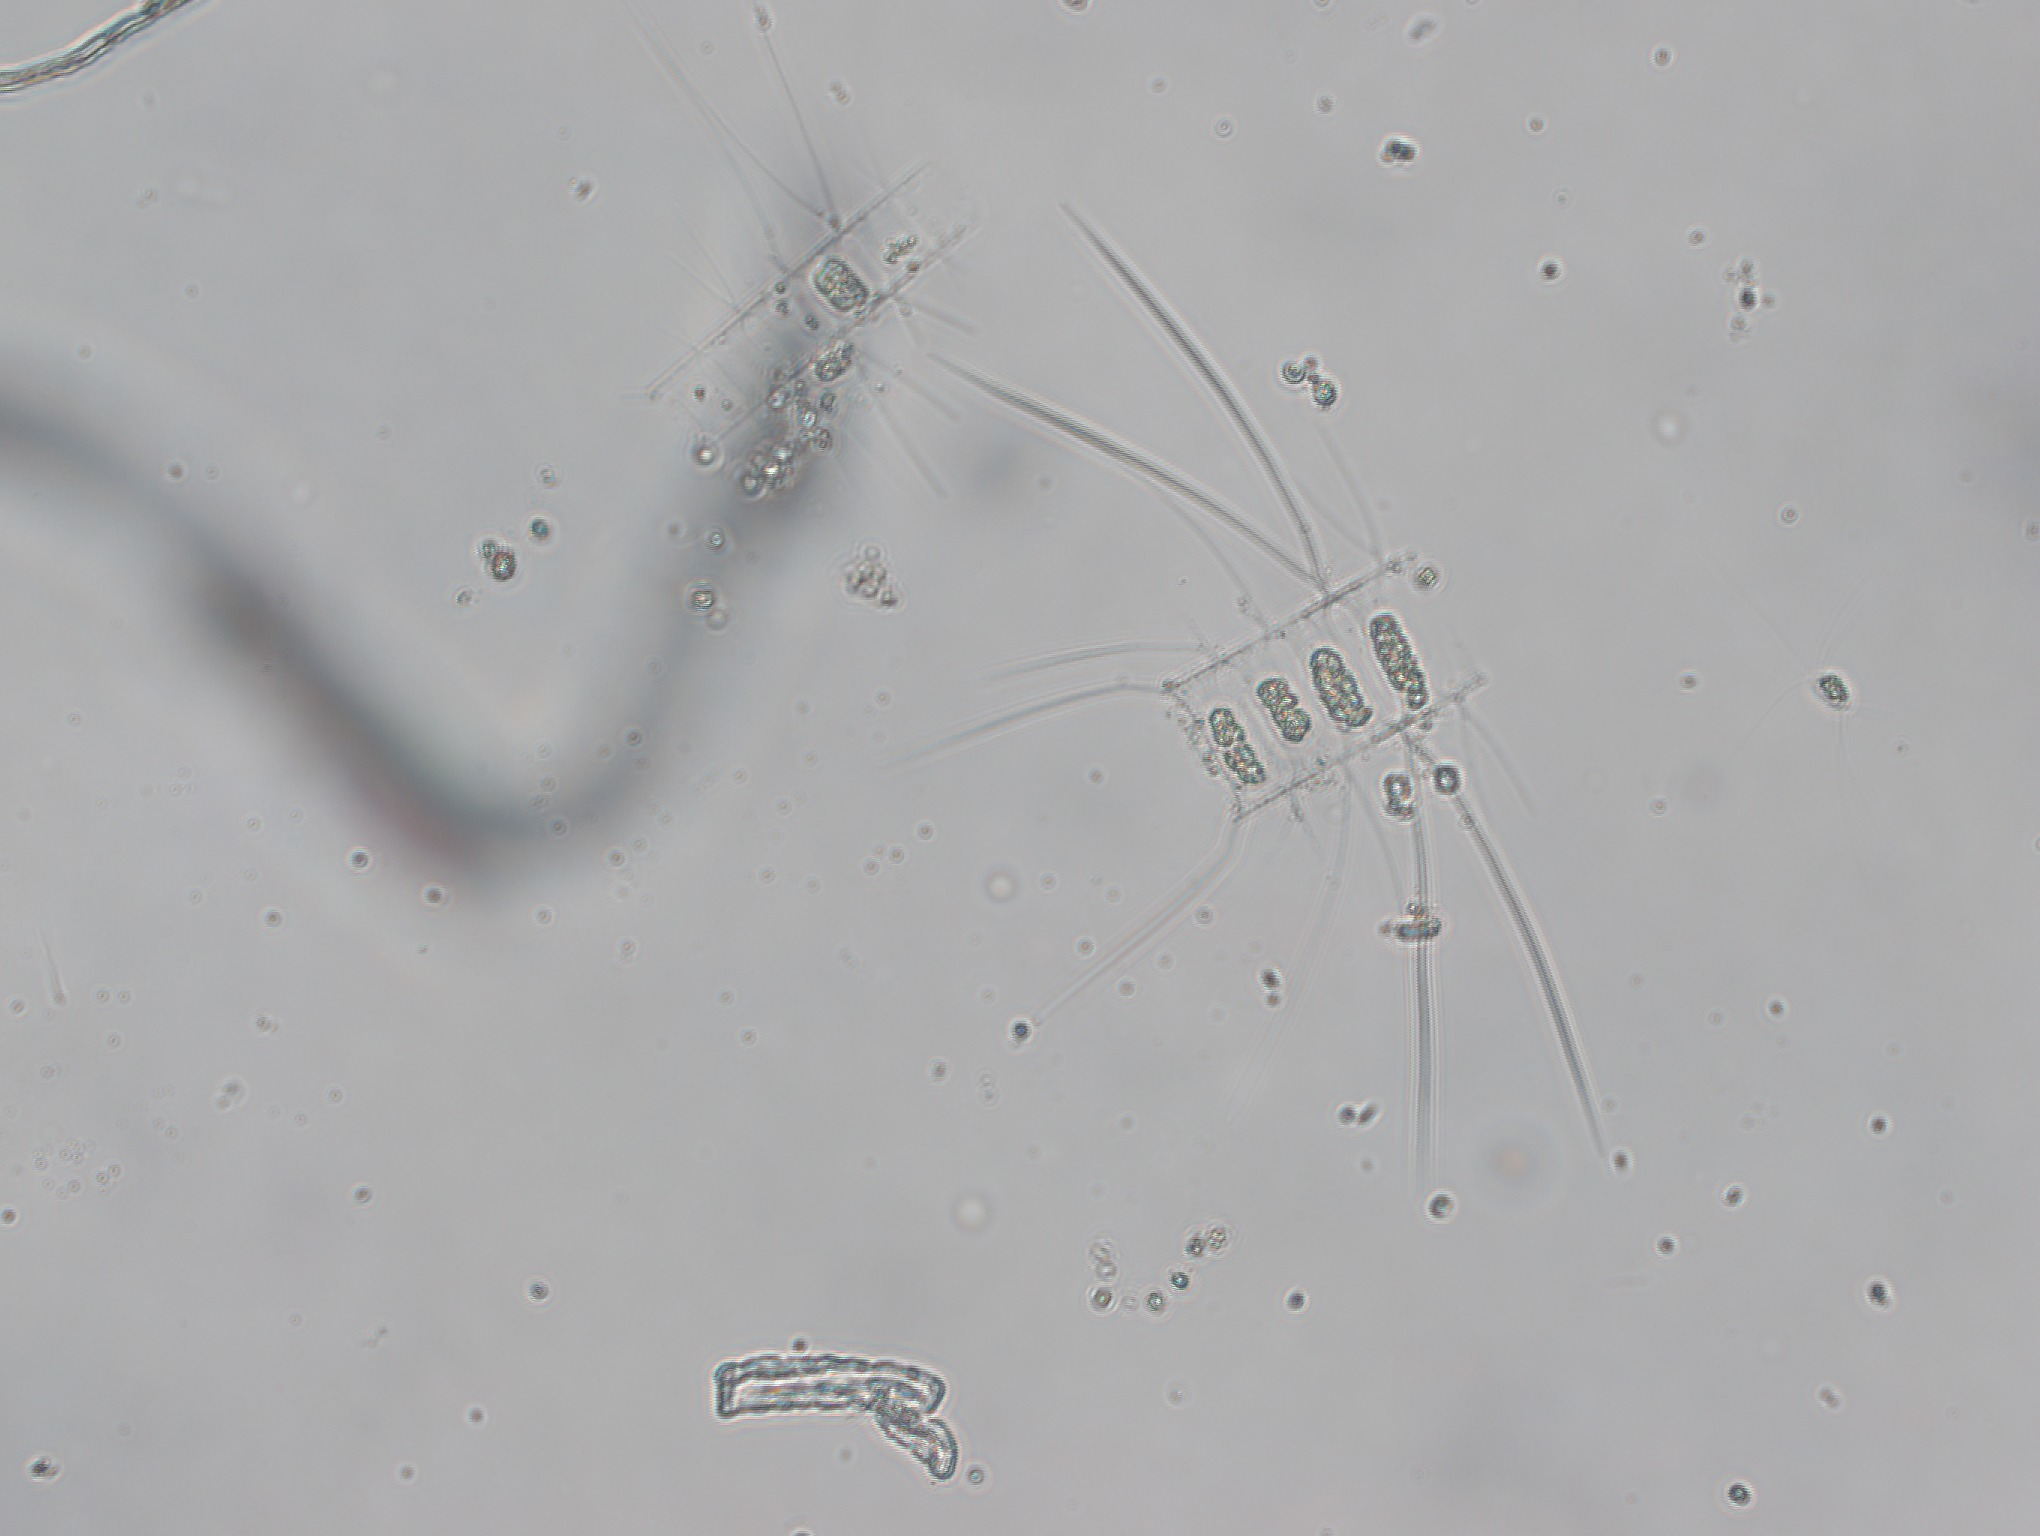chaetoceros: (943, 197, 1617, 1194), (622, 2, 989, 513)
